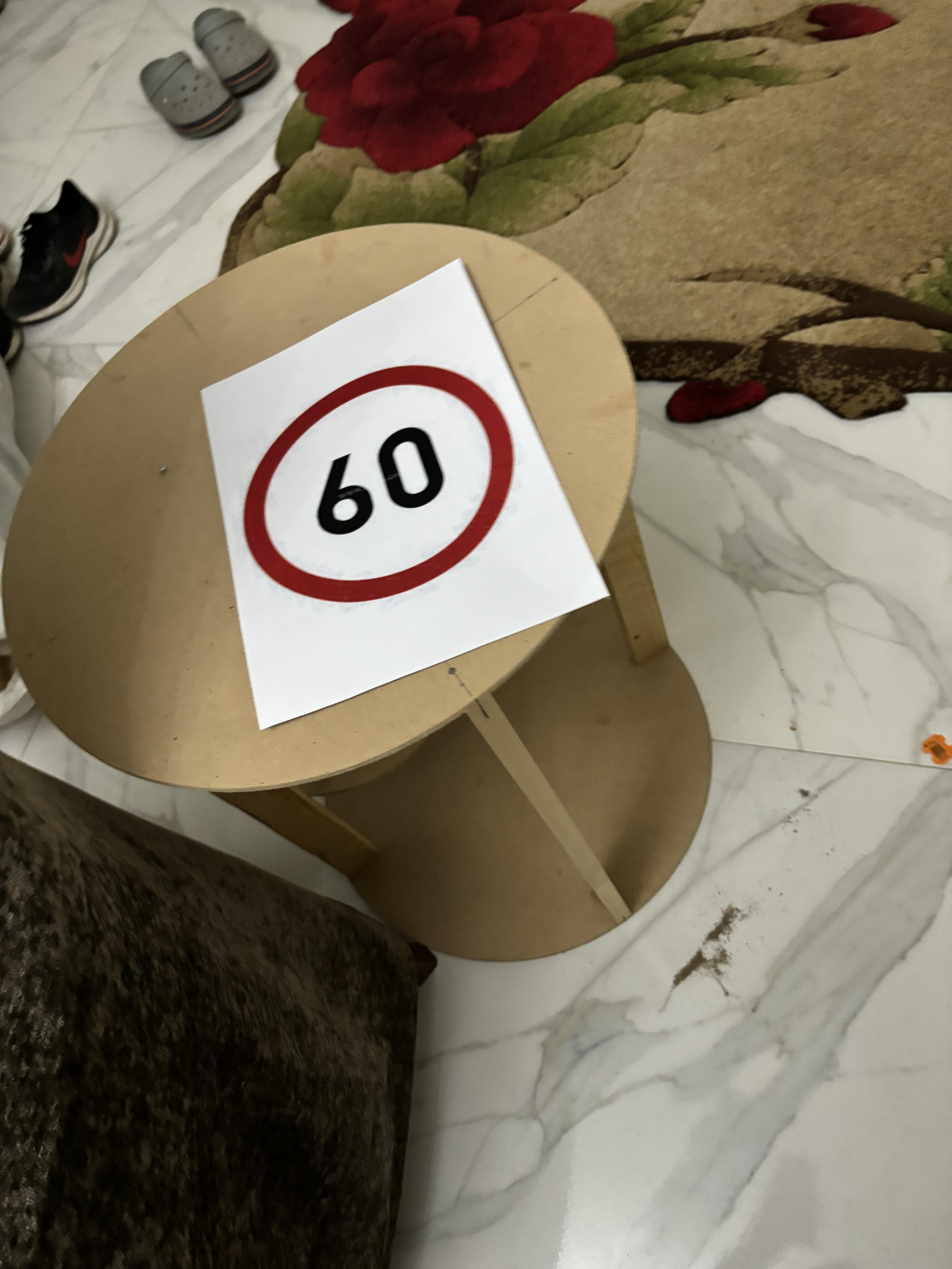60-Speed: (238, 363, 530, 614)
